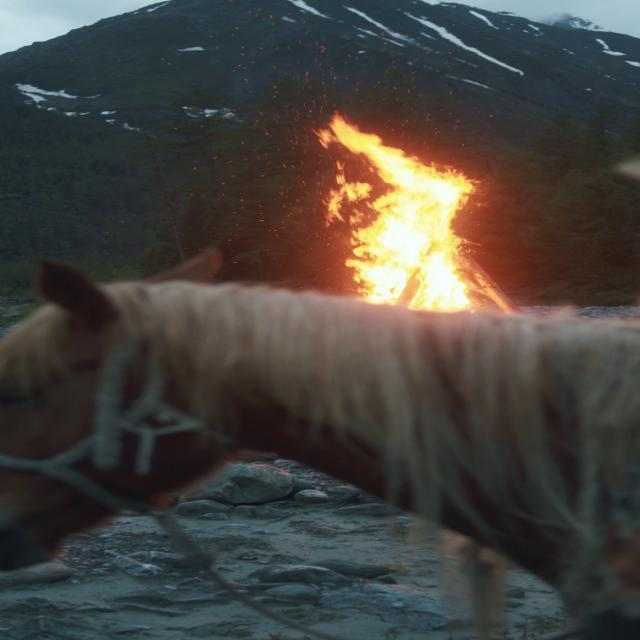Fire: (312, 114, 494, 316)
